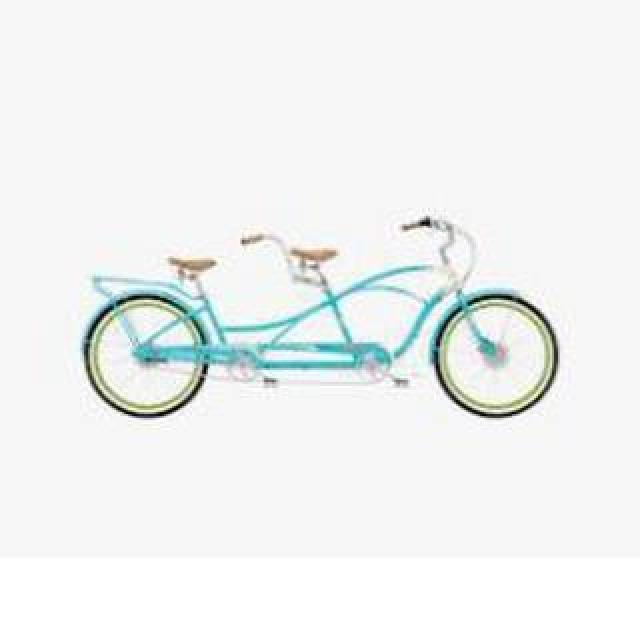Person: (82, 213, 560, 419)
